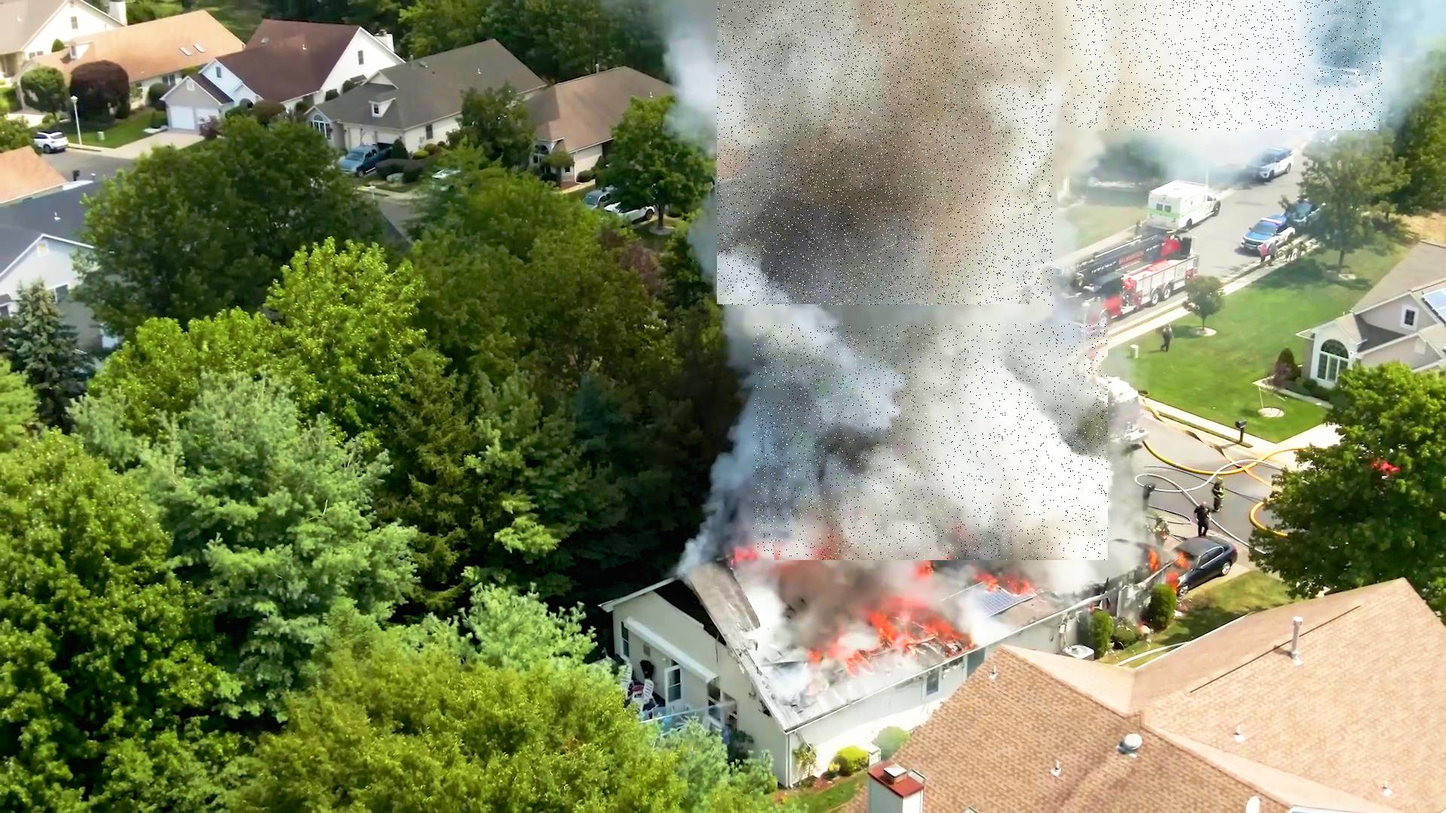smoke: (718, 2, 1054, 306), (753, 324, 1108, 560), (1062, 0, 1382, 130)
